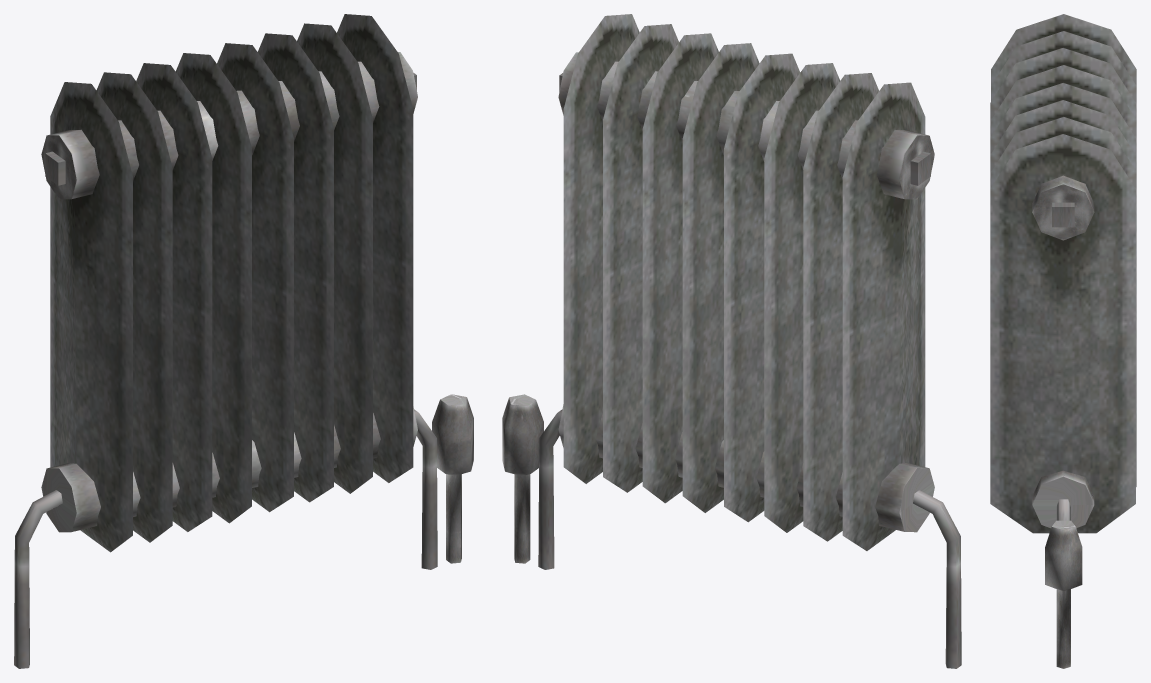
Rendered from cj_radiator_old.obj.
The picture shows the model from 3 angles, left to right: view 1: azimuth 30°, elevation 25°; view 2: azimuth 150°, elevation 25°; view 3: azimuth 270°, elevation 25°; orthographic projection. The views are drawn at different scales.
Parts seen in each view (by area): view 1: CJ_Radiator_old; view 2: CJ_Radiator_old; view 3: CJ_Radiator_old.
Boxes of the visible parts, <box> form: CJ_Radiator_old: <box>14,14,473,668</box>; CJ_Radiator_old: <box>502,14,961,668</box>; CJ_Radiator_old: <box>990,14,1136,668</box>.
Bounding box in the file's own units: 1.12 × 1.32 × 0.354.
2 materials, 2 textured.
